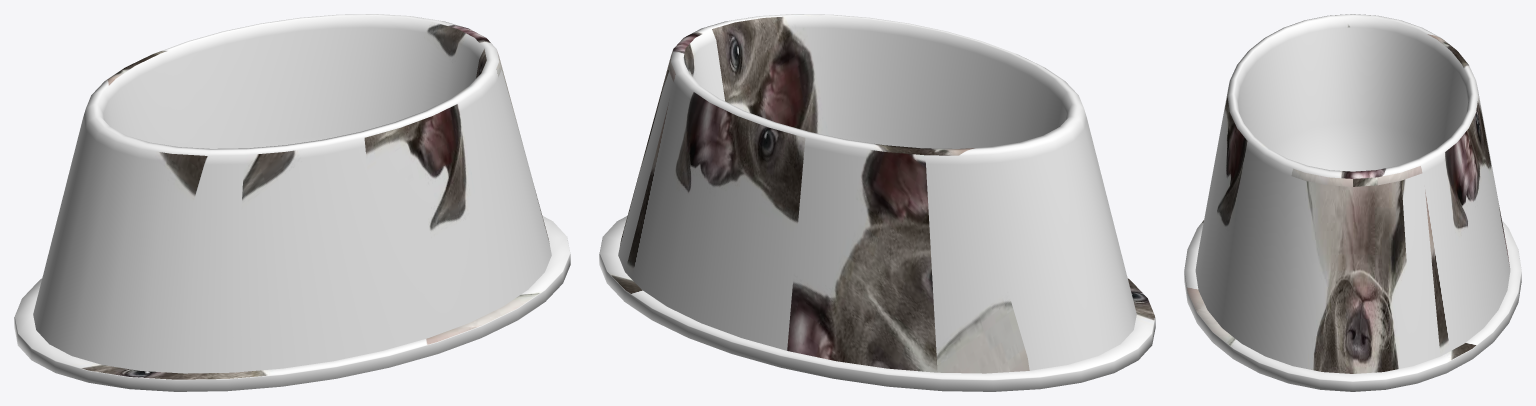
The model's file is sin_nombre.glb.
3 renders of one model, left to right at view 1: azimuth 30°, elevation 25°; view 2: azimuth 150°, elevation 25°; view 3: azimuth 270°, elevation 25°, orthographic. The views are drawn at different scales.
Parts seen in each view (by area): view 1: pet-bowl; view 2: pet-bowl; view 3: pet-bowl.
Part boxes in pixels (box(x1,y1,x2,y2)): pet-bowl: box(14, 14, 570, 391); pet-bowl: box(599, 14, 1155, 391); pet-bowl: box(1184, 14, 1521, 391).
Bounding box in the file's own units: 1.51 × 0.5943 × 0.9726.
1 material, 1 textured.
